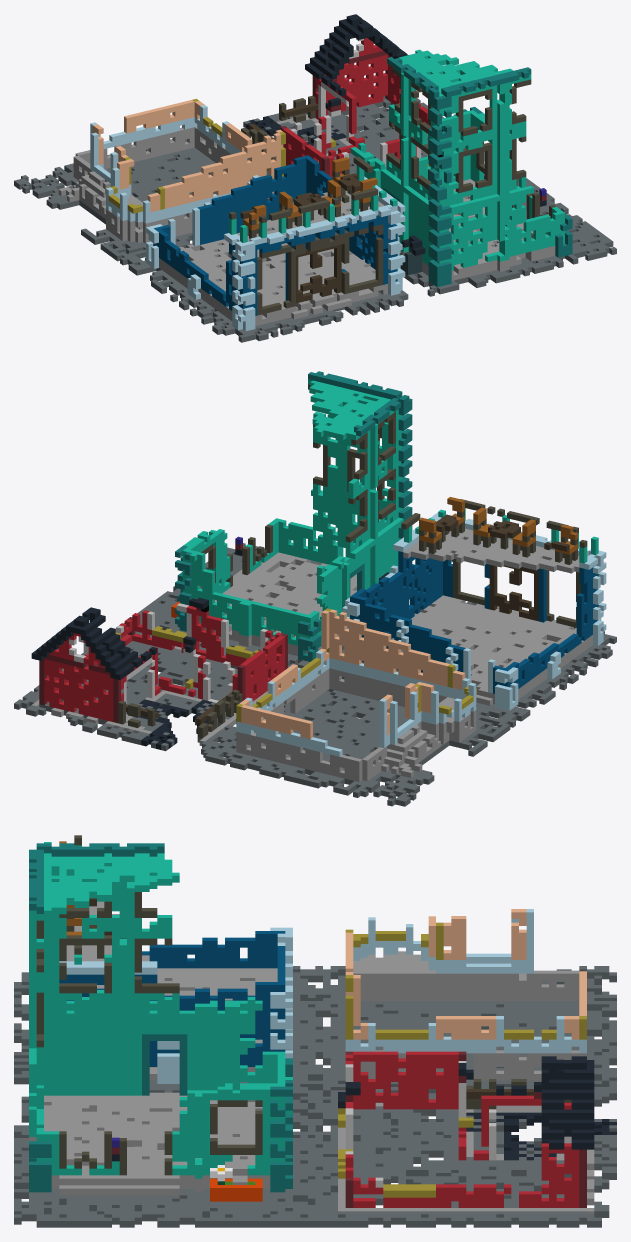
Rendered from building_medium_1_destroyed.obj.
3 renders of one model, top to bottom at view 1: azimuth 30°, elevation 25°; view 2: azimuth 150°, elevation 25°; view 3: azimuth 270°, elevation 25°, orthographic. The views are drawn at different scales.
Bounding box in the file's own units: 8 × 3.9 × 8.
1 material, 1 textured.
